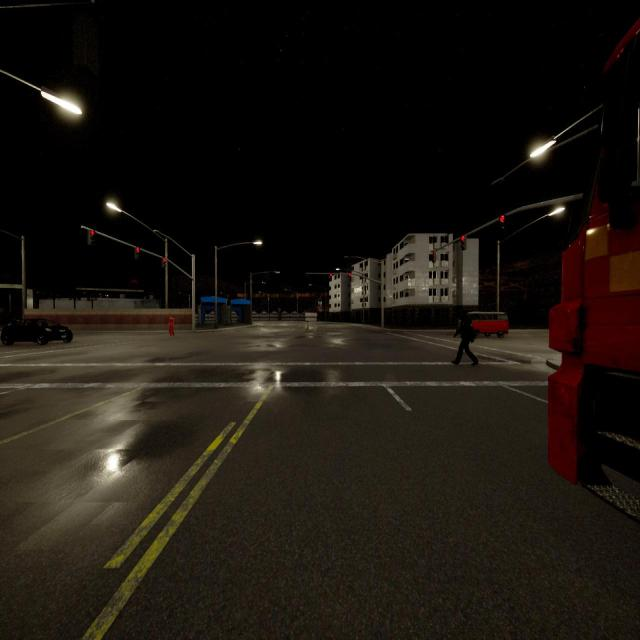Pedestrian: (452, 311, 478, 365), (168, 314, 174, 336)
Vehicle: (551, 25, 640, 516), (1, 318, 72, 345), (470, 312, 508, 338)
traffic_light: (88, 231, 95, 245), (461, 236, 467, 249), (500, 216, 504, 228), (432, 250, 436, 262), (135, 248, 139, 259), (162, 258, 166, 268), (330, 273, 332, 276), (349, 274, 351, 276)
